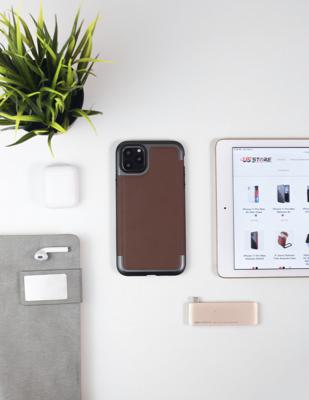cell-phone: (108, 134, 194, 281)
